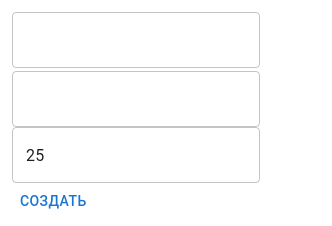
Scenario: form › fields change value were checked
This screenshot has width=332, height=226.
In the 1st field: (136,40) [12, 12, 260, 68], type "surname"
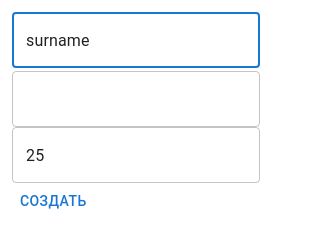
In the 2nd field: (136,99) [12, 71, 260, 127], type "fullname"
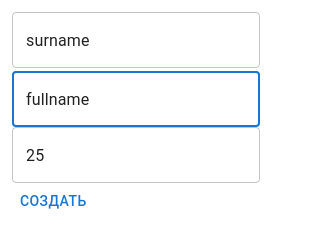
In the 3rd field: (136,155) [12, 127, 260, 183], type "2"
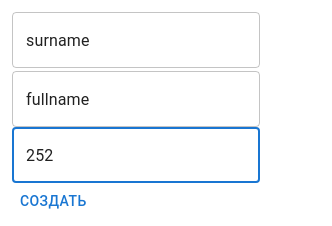
Now the 3rd field holds "252", box [12, 127, 260, 183]
